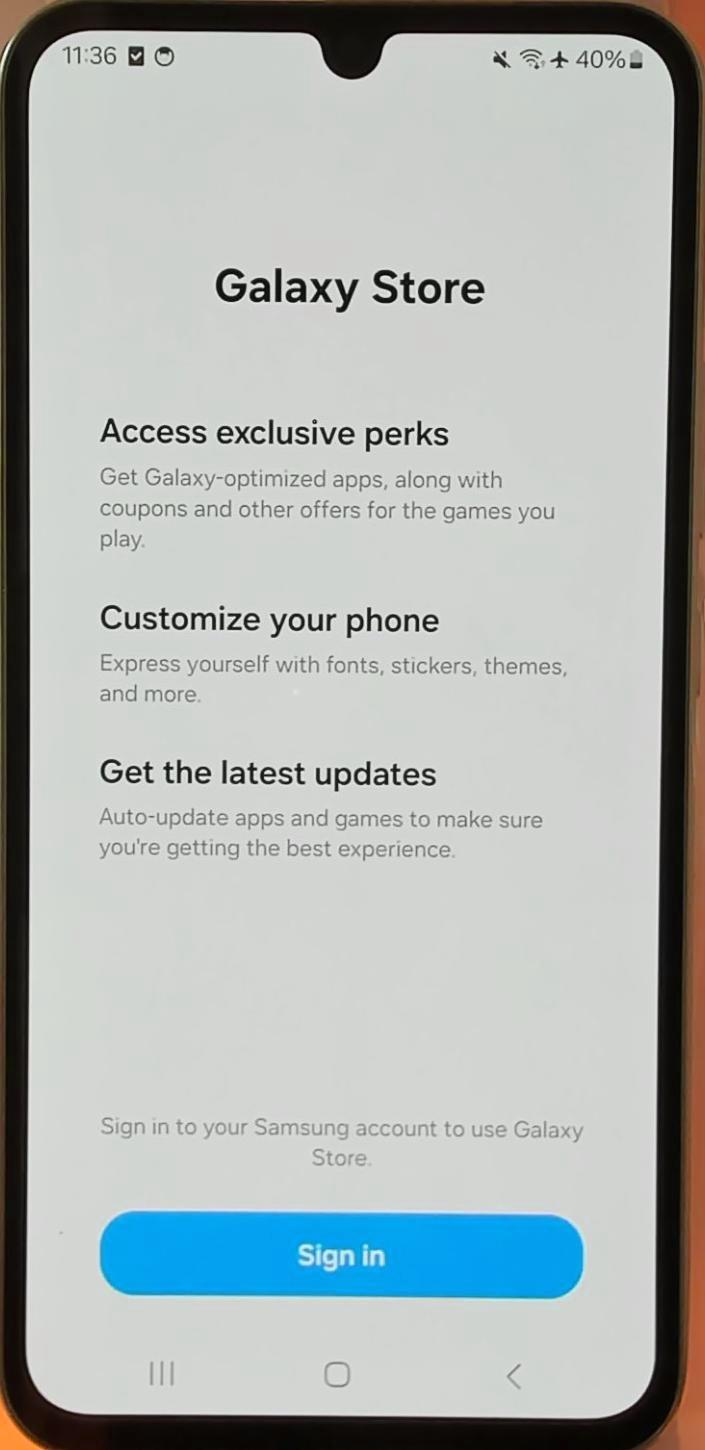CommunBotton: (92, 1206, 590, 1308), (136, 1344, 192, 1398), (496, 1346, 542, 1402), (316, 1346, 358, 1392)
